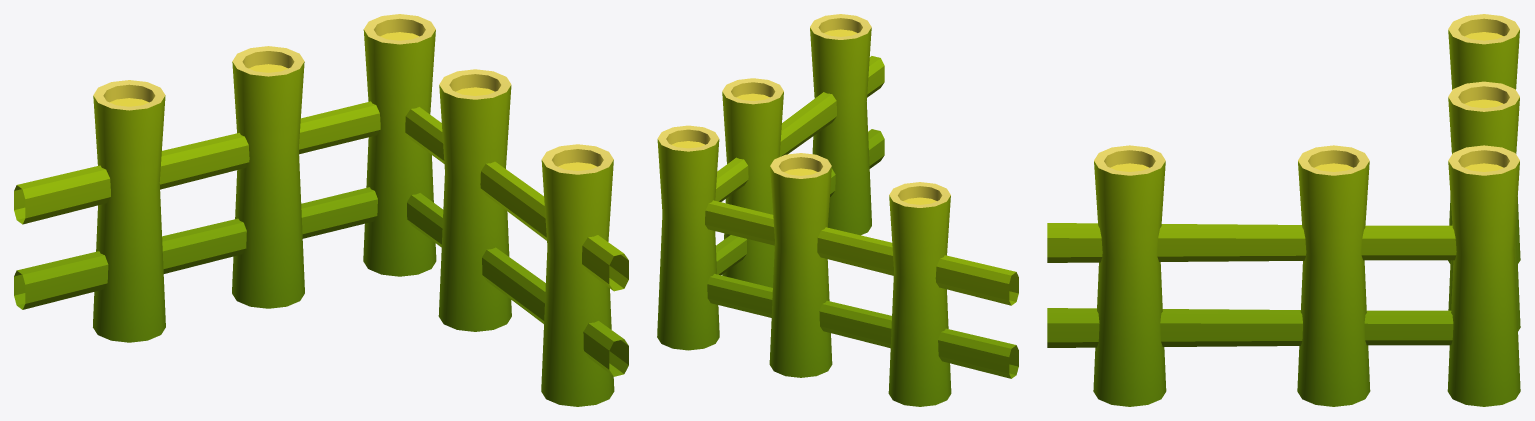
The model's file is Farm_Fence_D_02.fbx.
3 renders of one model, left to right at view 1: azimuth 30°, elevation 25°; view 2: azimuth 150°, elevation 25°; view 3: azimuth 270°, elevation 25°, orthographic. The views are drawn at different scales.
Parts seen in each view (by area): view 1: Farm_Fence_D_02; view 2: Farm_Fence_D_02; view 3: Farm_Fence_D_02.
Part boxes in pixels (bbox=[...]): Farm_Fence_D_02: bbox=[14, 14, 628, 406]; Farm_Fence_D_02: bbox=[657, 14, 1018, 406]; Farm_Fence_D_02: bbox=[1047, 14, 1520, 406].
Bounding box in the file's own units: 181 × 97.21 × 180.
